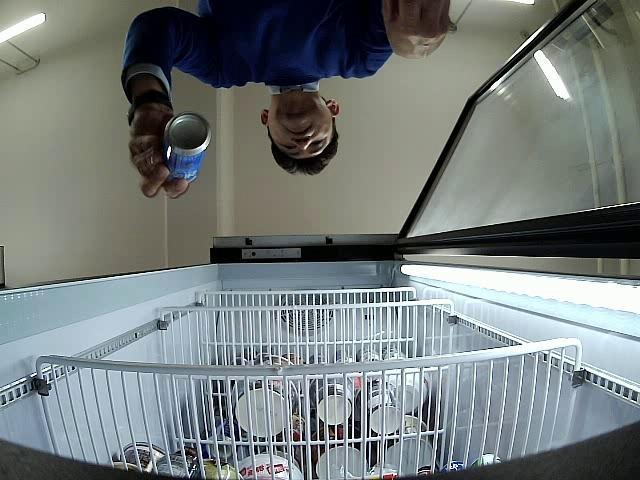15_letsbe: (163, 114, 212, 188)
